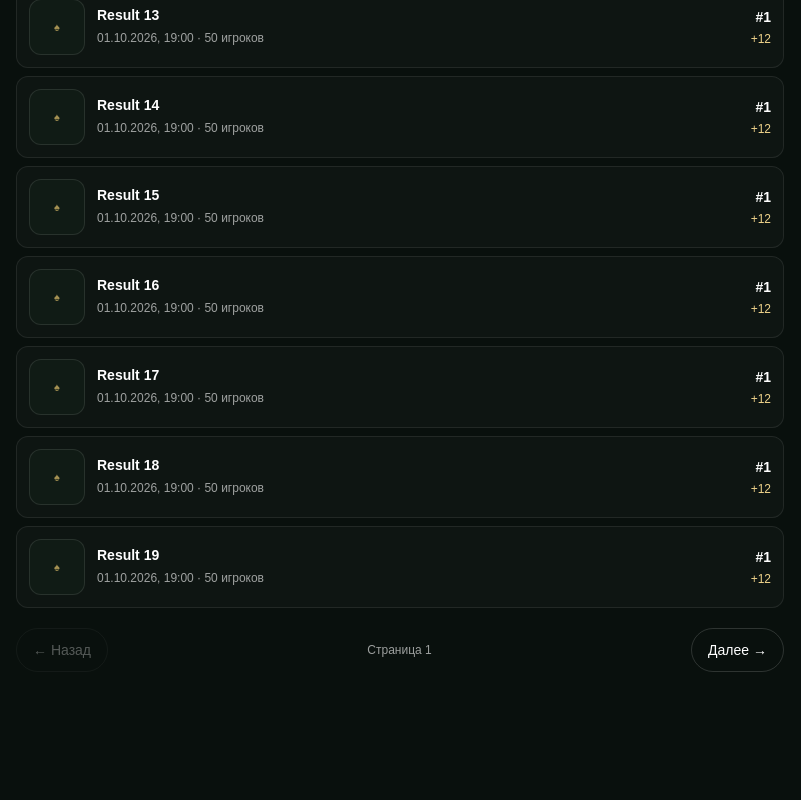
Test: navigates 65 results with bounded pages and a canonical profile backlink
The width and height of the screenshot is (801, 800).
(page scrolled)
Expected: the button "← Назад" is disabled, x1=16 y1=628 x2=108 y2=672
Click the button "Далее →" at (738,650), box x1=691 y1=628 x2=784 y2=672
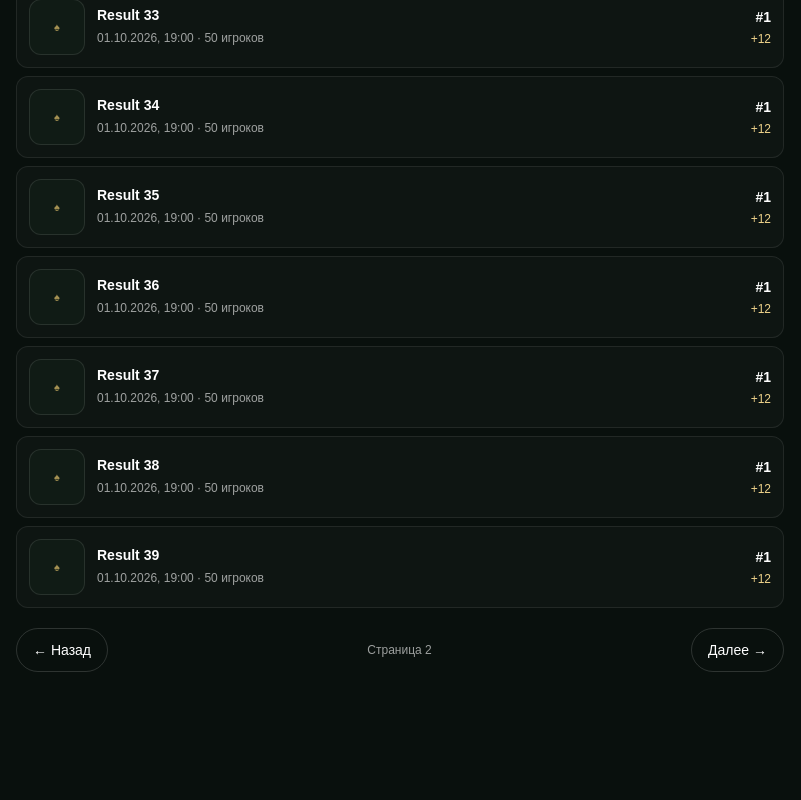
Click the button "Далее →" at (738,650), box x1=691 y1=628 x2=784 y2=672
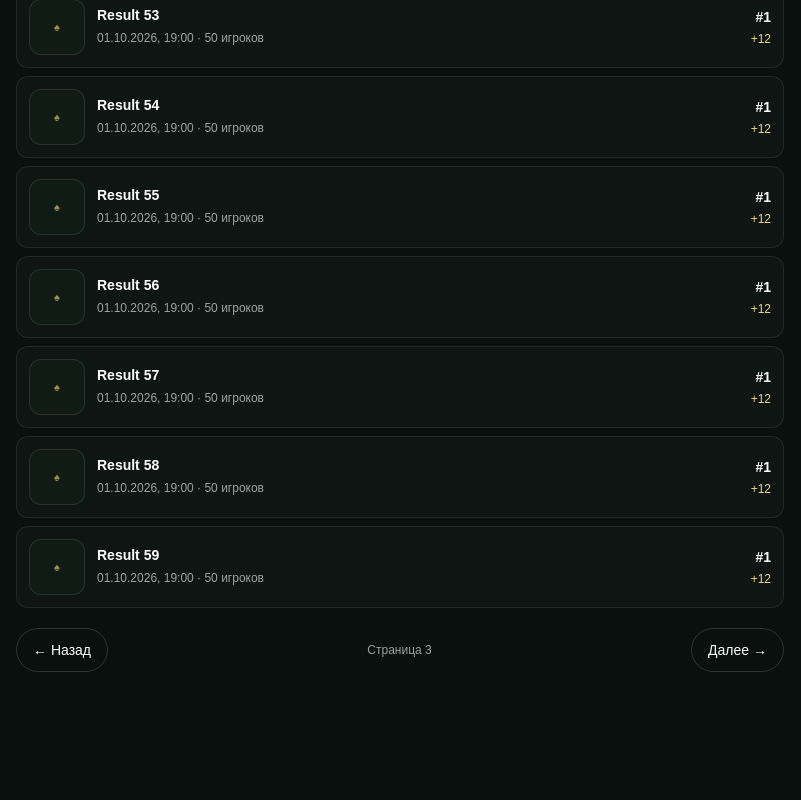
Click the button "Далее →" at (738,650), box x1=691 y1=628 x2=784 y2=672
(page scrolled)
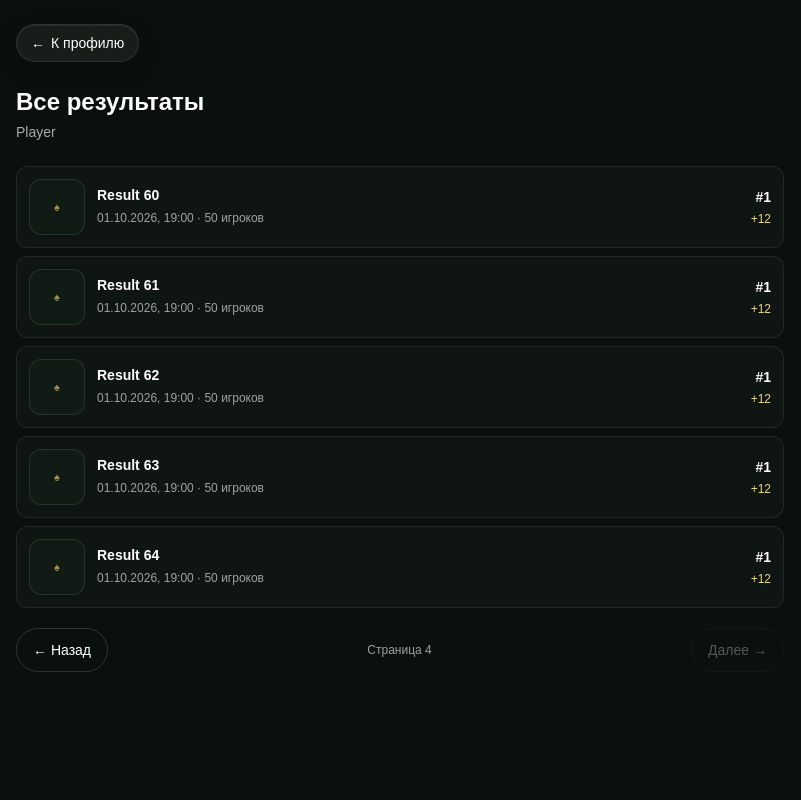
Expected: the text "Страница 4" is shown, x1=367 y1=642 x2=432 y2=658
Expected: the button "Далее →" is disabled, x1=691 y1=628 x2=784 y2=672
Click the button "← Назад" at (62,650), box x1=16 y1=628 x2=108 y2=672
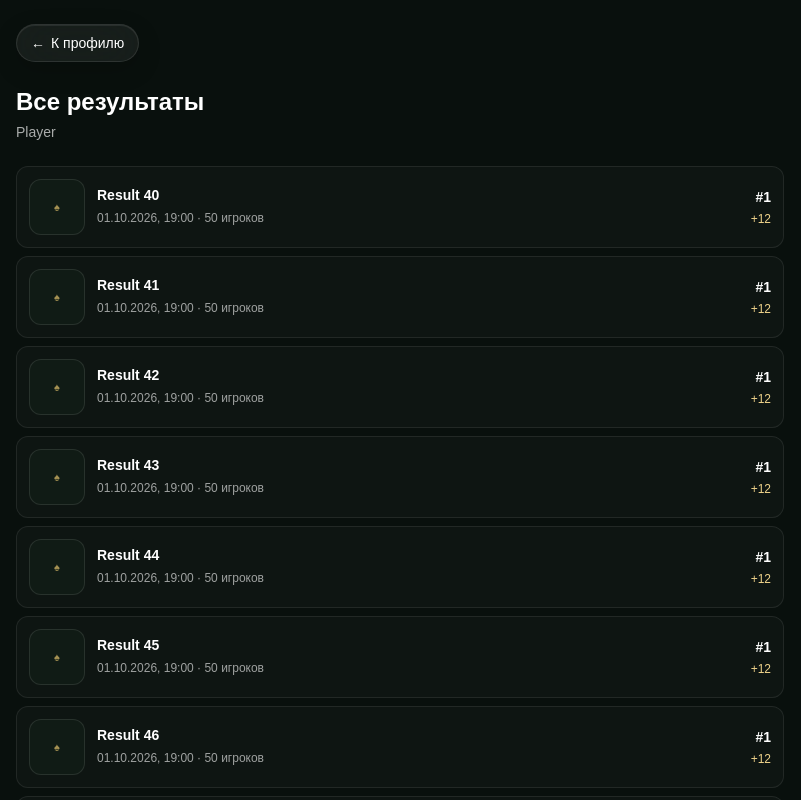
Expected: the text "Result 60" is gone
